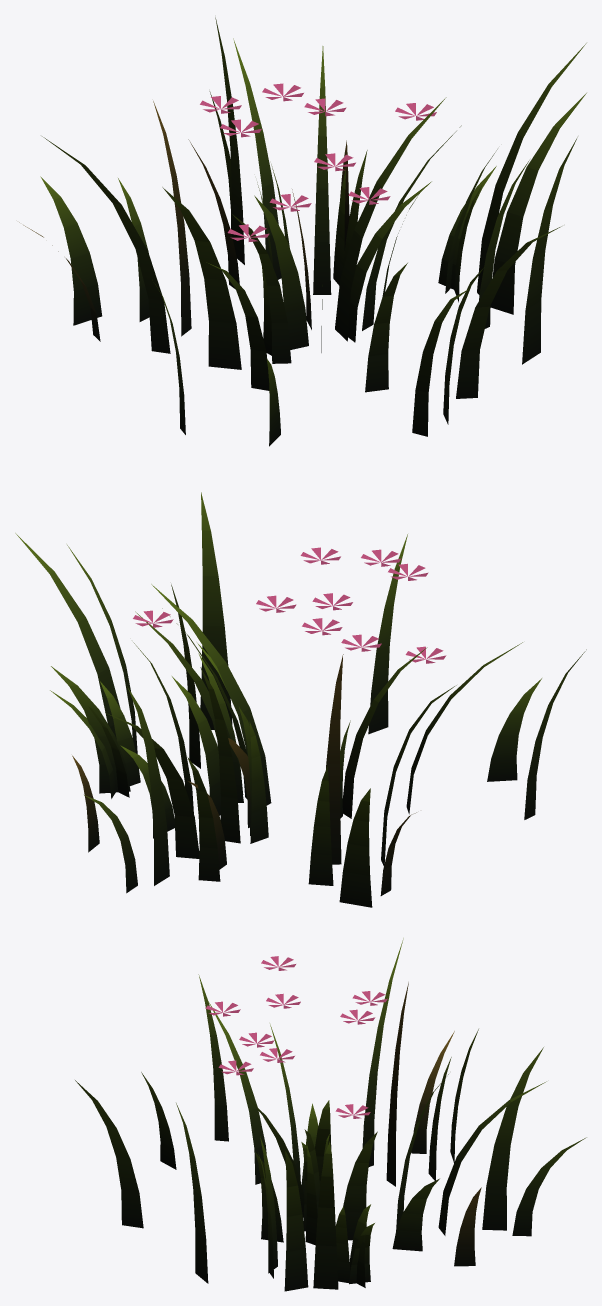
Rendered from SM_V2_Flowers_Pink.fbx.
The picture shows the model from 3 angles, top to bottom: view 1: azimuth 30°, elevation 25°; view 2: azimuth 150°, elevation 25°; view 3: azimuth 270°, elevation 25°; orthographic projection. The views are drawn at different scales.
Parts seen in each view (by area): view 1: SM_V2_Flowers_Pink; view 2: SM_V2_Flowers_Pink; view 3: SM_V2_Flowers_Pink.
Boxes of the visible parts, box(x1,y1,x2,y2) form: SM_V2_Flowers_Pink: box(19, 17, 586, 446); SM_V2_Flowers_Pink: box(15, 492, 586, 907); SM_V2_Flowers_Pink: box(75, 938, 586, 1291).
Bounding box in the file's own units: 0.9821 × 0.4664 × 1.13.
